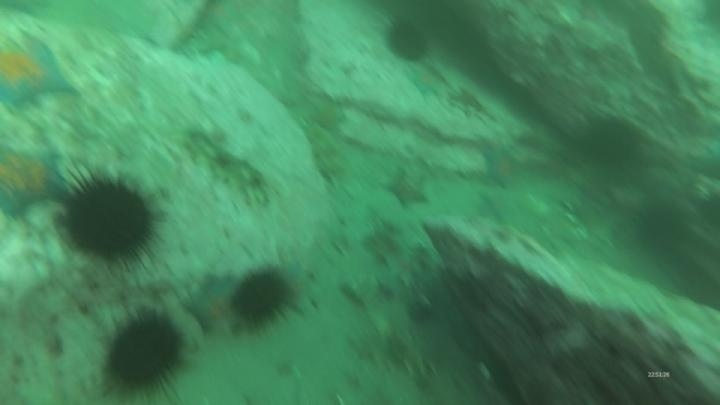echinus: (59, 167, 162, 267), (99, 307, 190, 400), (227, 264, 297, 330), (578, 114, 643, 171), (632, 199, 689, 256), (382, 16, 433, 65)
holothurian: (180, 122, 275, 208), (298, 117, 349, 187)
starfish: (0, 35, 79, 114), (0, 143, 74, 223), (182, 274, 244, 339), (273, 258, 319, 318), (476, 141, 524, 190), (381, 167, 432, 211), (402, 63, 445, 102), (308, 96, 348, 134)
